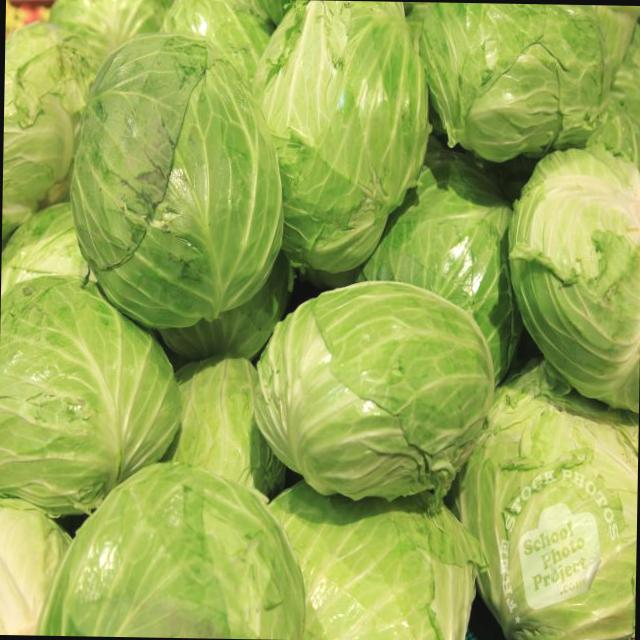cabbage: (74, 41, 286, 324), (255, 280, 489, 518)
